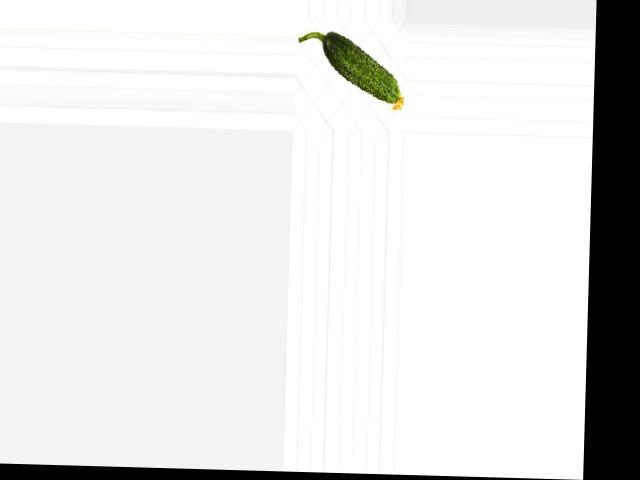cucumber: (297, 30, 406, 111)
